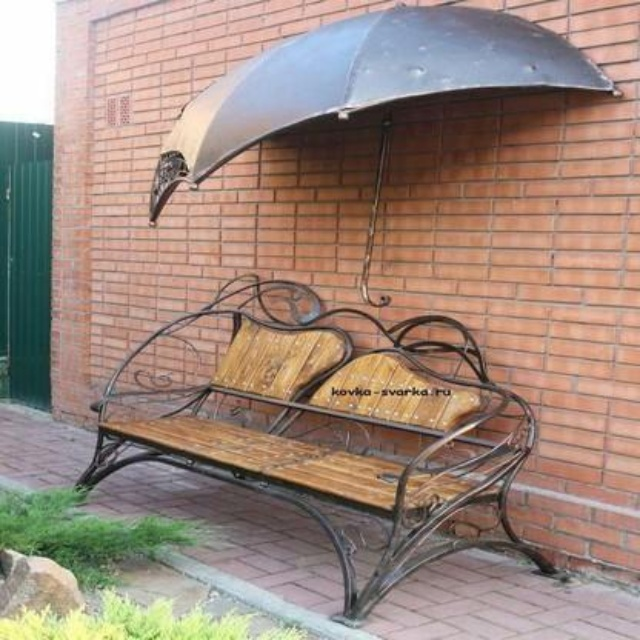obstacle: (46, 285, 586, 620)
